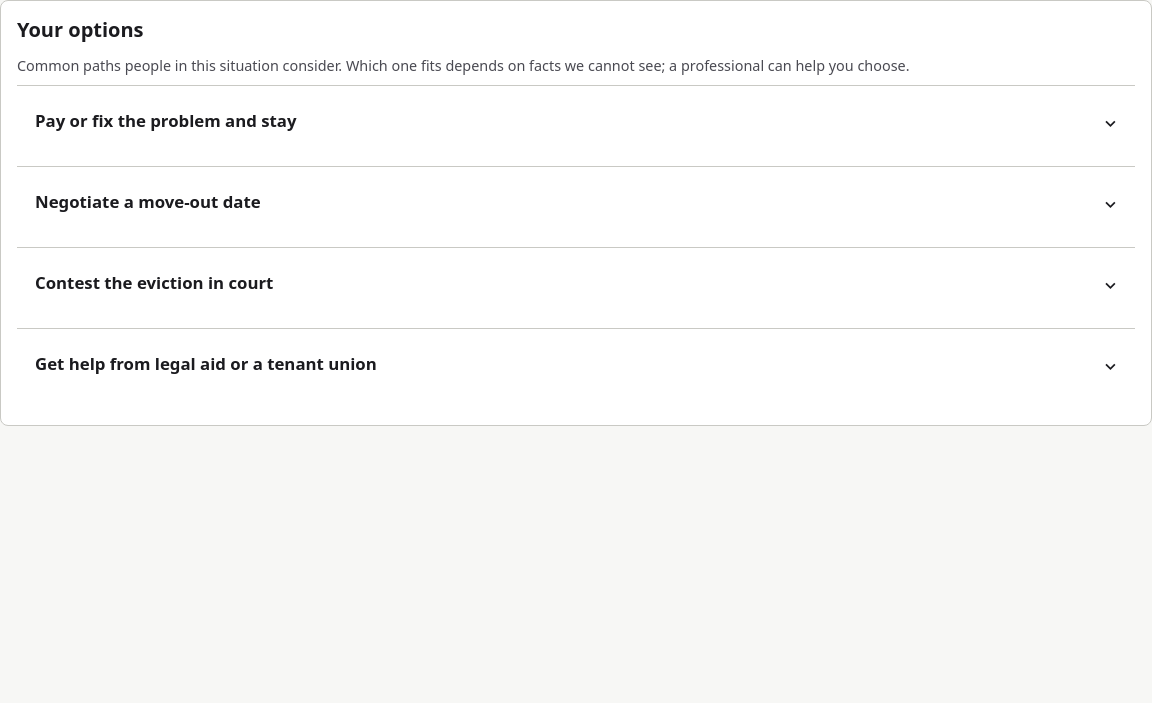
Test: Options › toggles aria-expanded and reveals the panel it controls
Click the button "Pay or fix the problem and stay": [166, 120] box [17, 98, 1135, 142]
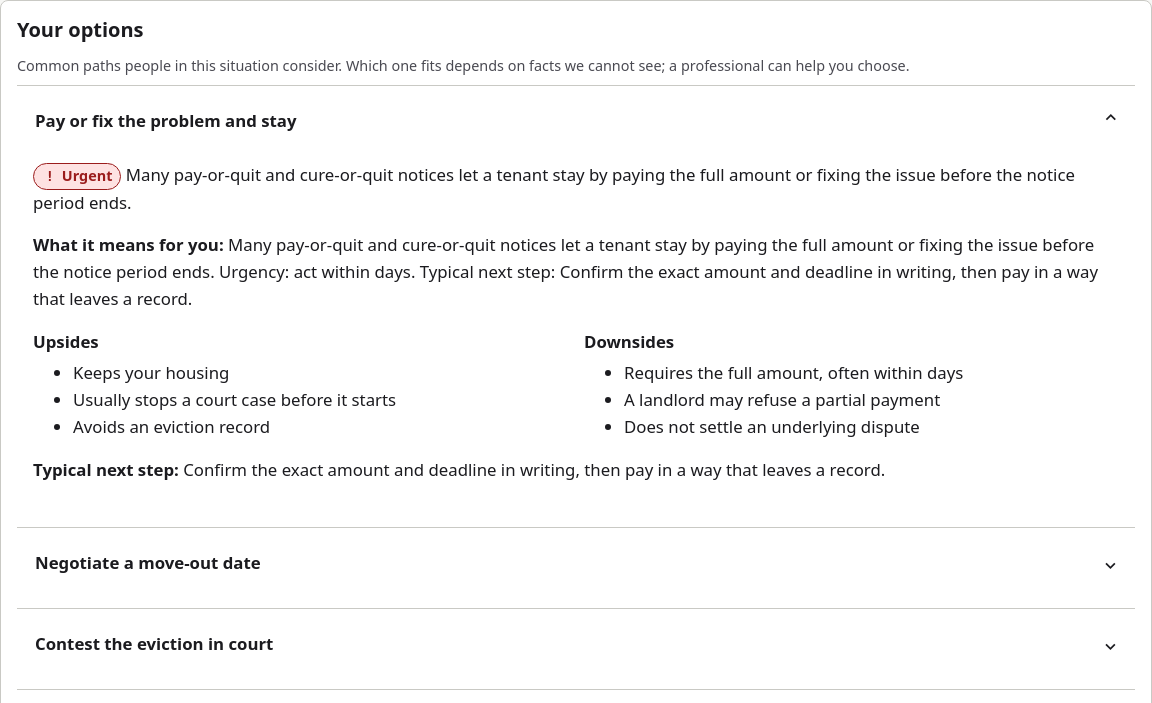
Check: the button "Pay or fix the problem and stay" is expanded
Check: the text "Upsides" is shown, box [33, 330, 99, 353]
Check: the text "Downsides" is shown, box [584, 330, 674, 353]
Click the button "Pay or fix the problem and stay": [166, 120] box [17, 98, 1135, 142]
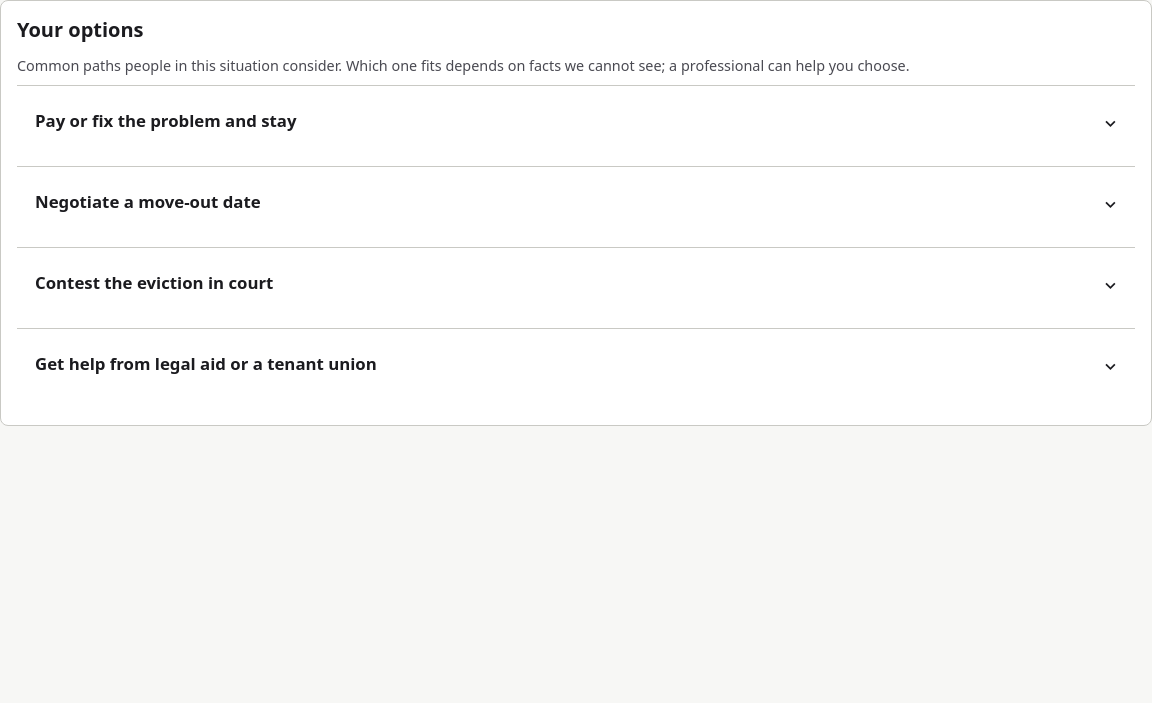
Check: the button "Pay or fix the problem and stay" is collapsed, box [17, 98, 1135, 142]
